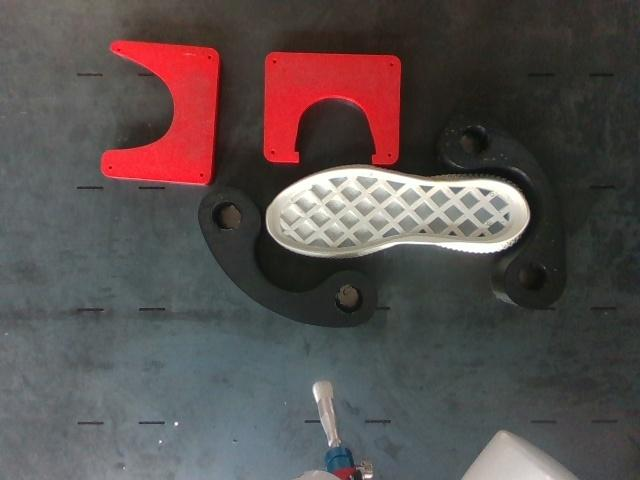shoes: (267, 169, 527, 254)
